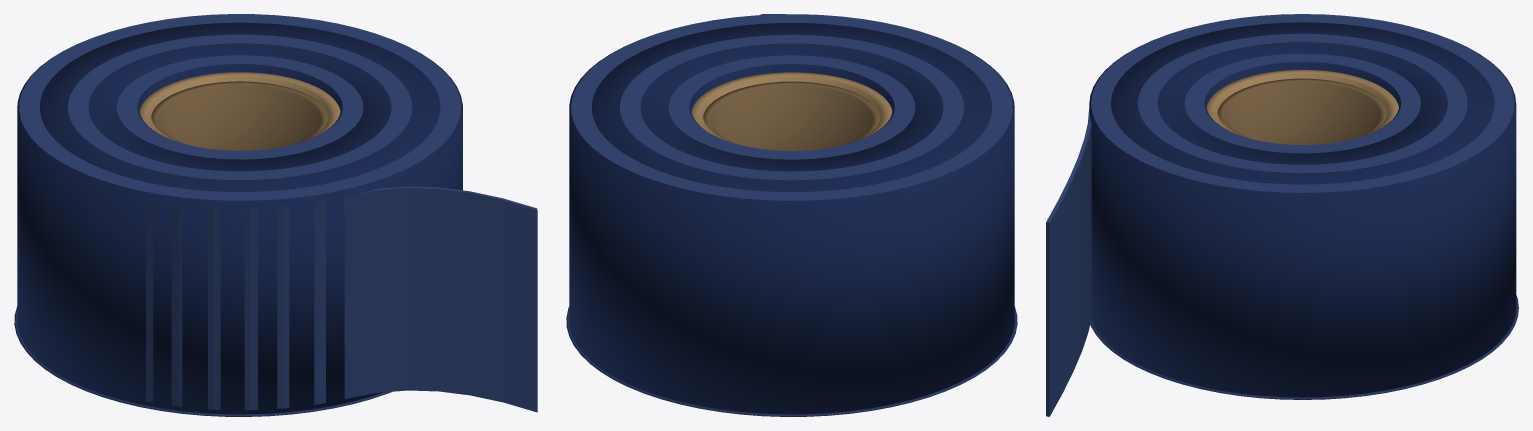
File: tape_wide.glb
The picture shows the model from 3 angles, left to right: view 1: azimuth 30°, elevation 25°; view 2: azimuth 150°, elevation 25°; view 3: azimuth 270°, elevation 25°; orthographic projection. The views are drawn at different scales.
Parts seen in each view (by area): view 1: Winding, FreeEnd, TopLayer4, CoreInner, TopLayer2, TopLayer0, CardboardCore, SideGroove0; view 2: Winding, TopLayer4, CoreInner, TopLayer2, TopLayer0, CardboardCore, SideGroove0; view 3: Winding, TopLayer4, FreeEnd, CoreInner, TopLayer2, TopLayer0, CardboardCore, SideGroove0.
Part boxes in pixels (x1,y1,x2,y2): Winding: [17, 22, 462, 414]; FreeEnd: [146, 186, 537, 412]; TopLayer4: [19, 14, 460, 200]; CoreInner: [151, 81, 328, 150]; TopLayer2: [68, 34, 412, 179]; TopLayer0: [116, 55, 363, 159]; CardboardCore: [139, 72, 340, 141]; SideGroove0: [14, 306, 391, 416]; Winding: [569, 23, 1014, 414]; TopLayer4: [571, 14, 1012, 200]; CoreInner: [703, 81, 880, 150]; TopLayer2: [620, 34, 963, 180]; TopLayer0: [668, 55, 915, 159]; CardboardCore: [691, 72, 892, 142]; SideGroove0: [566, 306, 1017, 416]; Winding: [1089, 22, 1516, 397]; TopLayer4: [1091, 14, 1514, 192]; FreeEnd: [1046, 109, 1091, 416]; CoreInner: [1217, 78, 1387, 144]; TopLayer2: [1138, 33, 1467, 173]; TopLayer0: [1184, 53, 1420, 153]; CardboardCore: [1206, 69, 1398, 136]; SideGroove0: [1090, 295, 1518, 399].
Bounding box in the file's own units: 0.0962 × 0.0581 × 0.1052.
